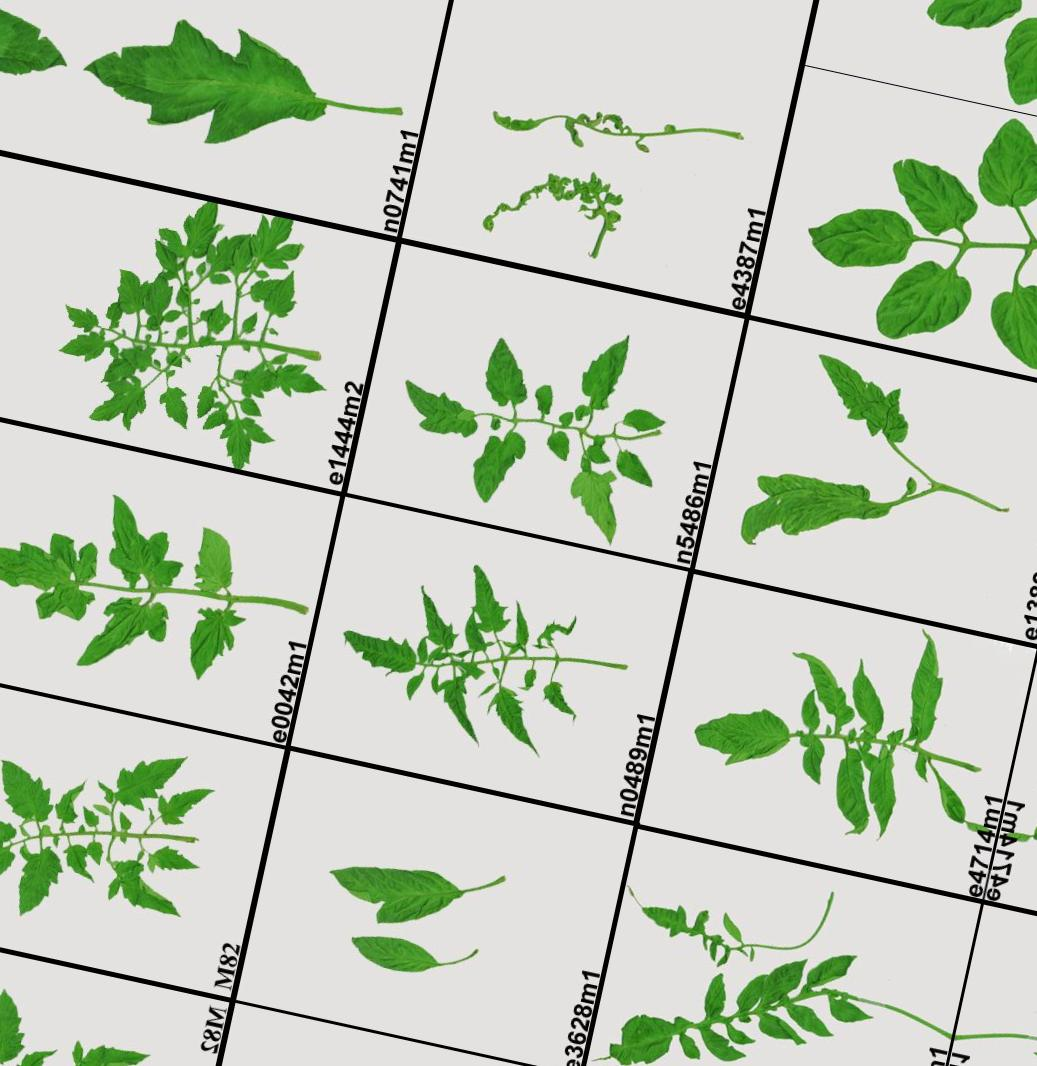Tomato leaf: (71, 0, 347, 190), (0, 520, 109, 629), (74, 589, 176, 688), (87, 493, 185, 596), (187, 511, 258, 614), (380, 381, 492, 446), (326, 613, 423, 685), (475, 327, 542, 424)
